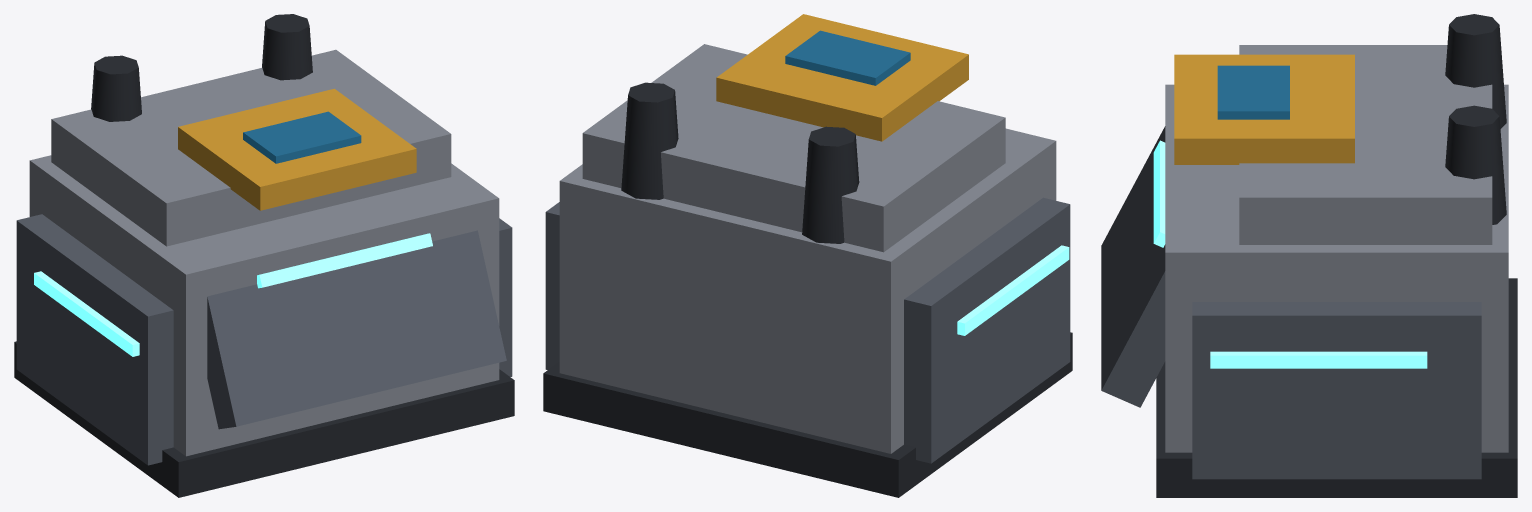
Rendered from body_std.glb.
The picture shows the model from 3 angles, left to right: view 1: azimuth 30°, elevation 25°; view 2: azimuth 150°, elevation 25°; view 3: azimuth 270°, elevation 25°; orthographic projection. The views are drawn at different scales.
Parts seen in each view (by area): view 1: body, hatch; view 2: body, hatch; view 3: body, hatch.
Part boxes in pixels (x1=…): body: x1=14, y1=14, x2=514, y2=497; hatch: x1=178, y1=88, x2=416, y2=210; body: x1=543, y1=44, x2=1072, y2=497; hatch: x1=716, y1=14, x2=968, y2=141; body: x1=1101, y1=14, x2=1517, y2=497; hatch: x1=1174, y1=54, x2=1354, y2=164.
Size of the model in its own units: 1.33 by 1.03 by 1.15.
